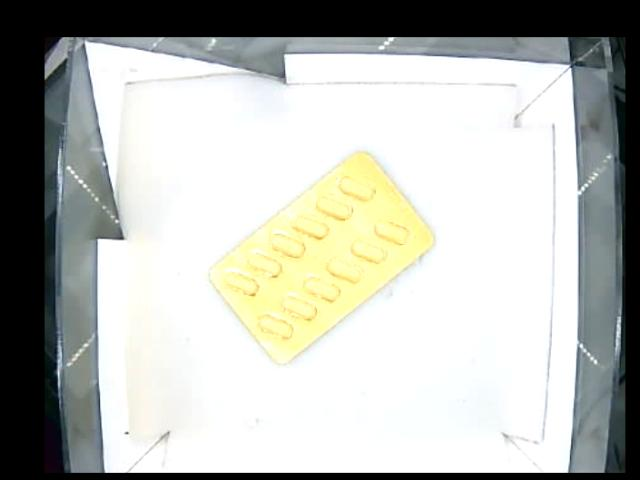Medicine: (207, 152, 439, 364)
